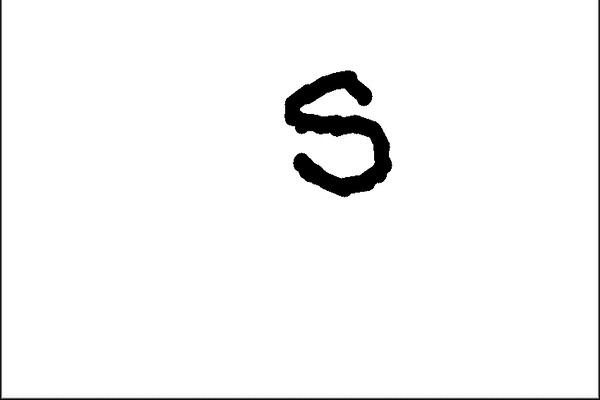S: (269, 64, 408, 208)
